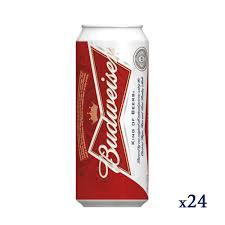beer: (73, 23, 151, 207)
